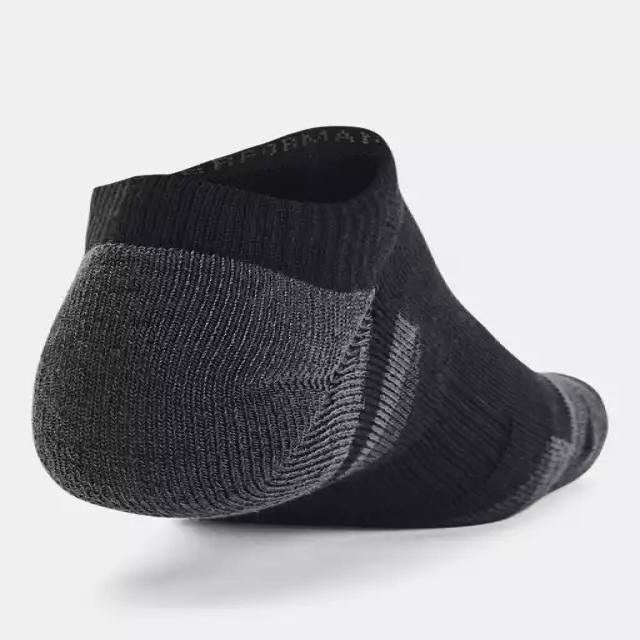sock: (31, 124, 609, 529)
